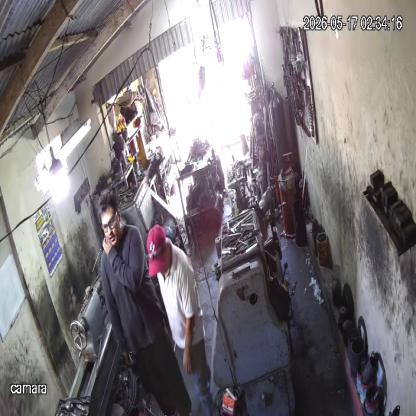lentes: (101, 210, 118, 232)
